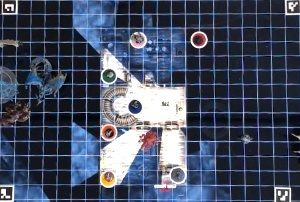blue: (127, 98, 142, 113)
green: (98, 65, 117, 83)
orange: (100, 123, 118, 141)
pink: (127, 28, 147, 49)
red: (190, 28, 209, 48)
violet: (169, 166, 188, 185)
yellow: (101, 169, 117, 187)
